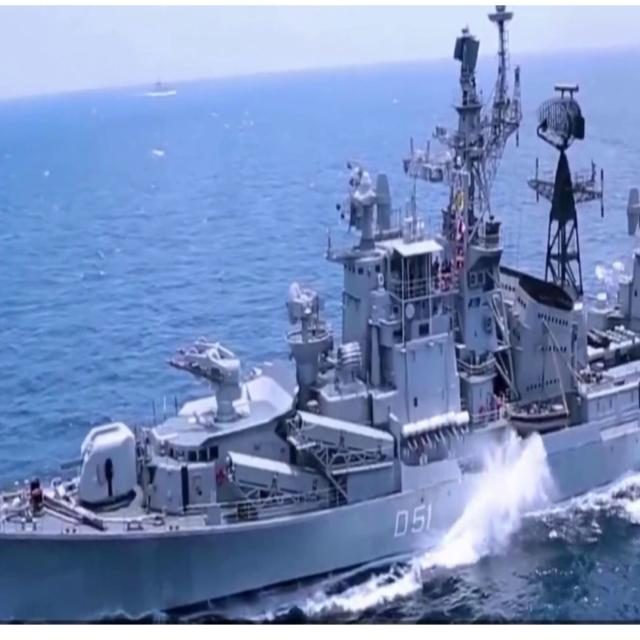OCR: (386, 498, 432, 549)
